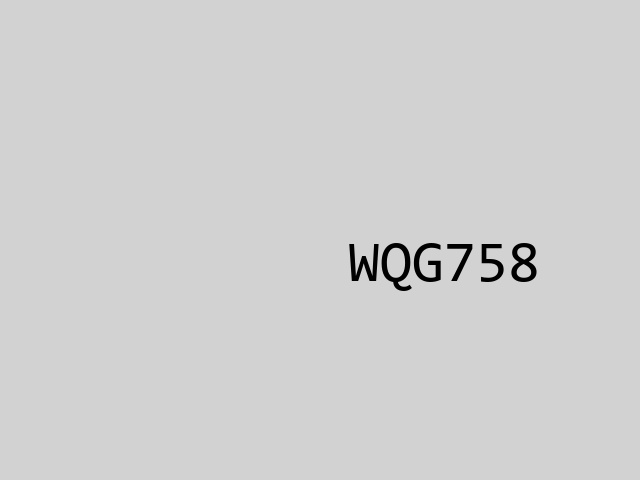OCR_AREA: (344, 239, 544, 295)
